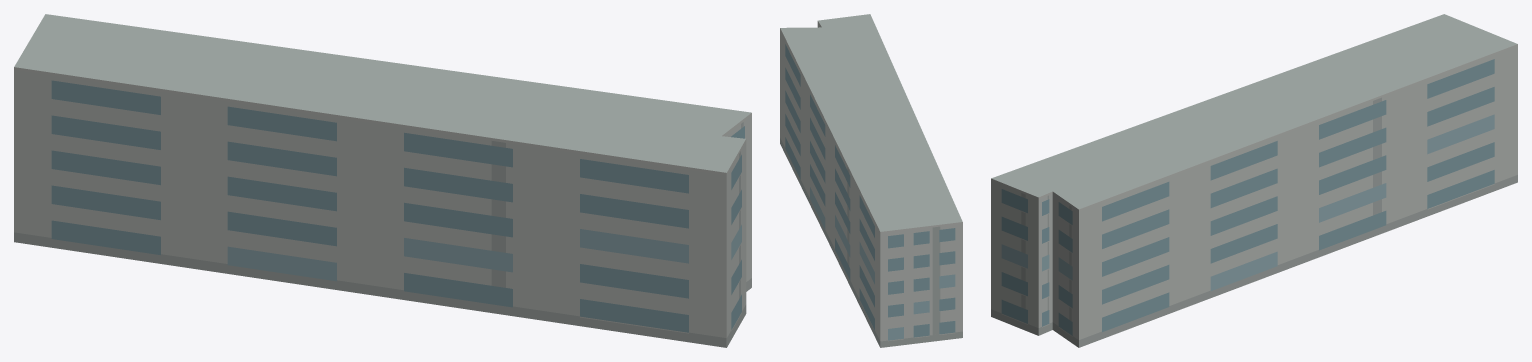
The model's file is residential-96224596-ba5b-43b7-9dfd-ae008bd20a58.glb.
The picture shows the model from 3 angles, left to right: view 1: azimuth 30°, elevation 25°; view 2: azimuth 150°, elevation 25°; view 3: azimuth 270°, elevation 25°; orthographic projection. The views are drawn at different scales.
Parts seen in each view (by area): view 1: residential-96224596-ba5b-43b7-9dfd-ae008bd20a58.tmp; view 2: residential-96224596-ba5b-43b7-9dfd-ae008bd20a58.tmp; view 3: residential-96224596-ba5b-43b7-9dfd-ae008bd20a58.tmp.
Part boxes in pixels (left/top/right/bottom): residential-96224596-ba5b-43b7-9dfd-ae008bd20a58.tmp: left=14, top=14, right=751, bottom=347; residential-96224596-ba5b-43b7-9dfd-ae008bd20a58.tmp: left=780, top=14, right=962, bottom=347; residential-96224596-ba5b-43b7-9dfd-ae008bd20a58.tmp: left=991, top=14, right=1517, bottom=347.
Size of the model in its own units: 46.21 by 15.25 by 52.61.
